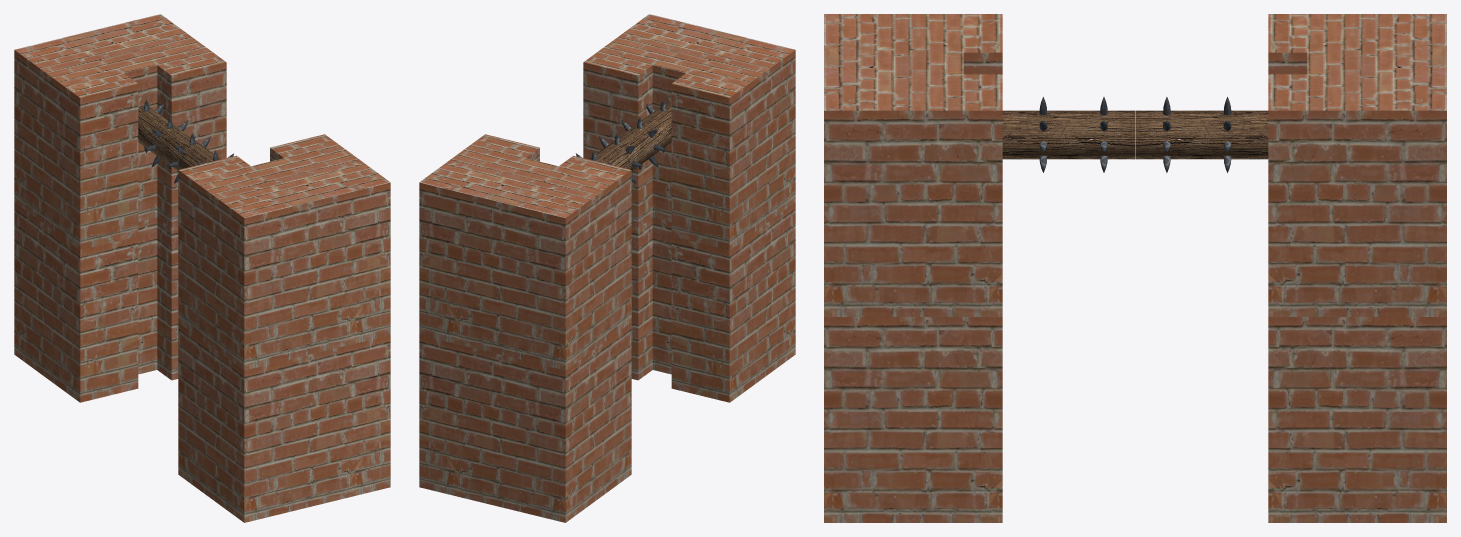
Rendered from Obstacle1.FBX.
The picture shows the model from 3 angles, left to right: view 1: azimuth 30°, elevation 25°; view 2: azimuth 150°, elevation 25°; view 3: azimuth 270°, elevation 25°; orthographic projection. The views are drawn at different scales.
Parts seen in each view (by area): view 1: polySurface060, polySurface061; view 2: polySurface060, polySurface061; view 3: polySurface060, polySurface061.
Boxes of the visible parts, box(x1,y1,x2,y2) form: polySurface060: box(14, 14, 390, 522); polySurface061: box(138, 99, 233, 183); polySurface060: box(419, 14, 795, 522); polySurface061: box(576, 99, 671, 183); polySurface060: box(824, 14, 1446, 522); polySurface061: box(1002, 97, 1268, 172).
Size of the model in its own units: 368 by 732 by 1002.
2 materials, 2 textured.
